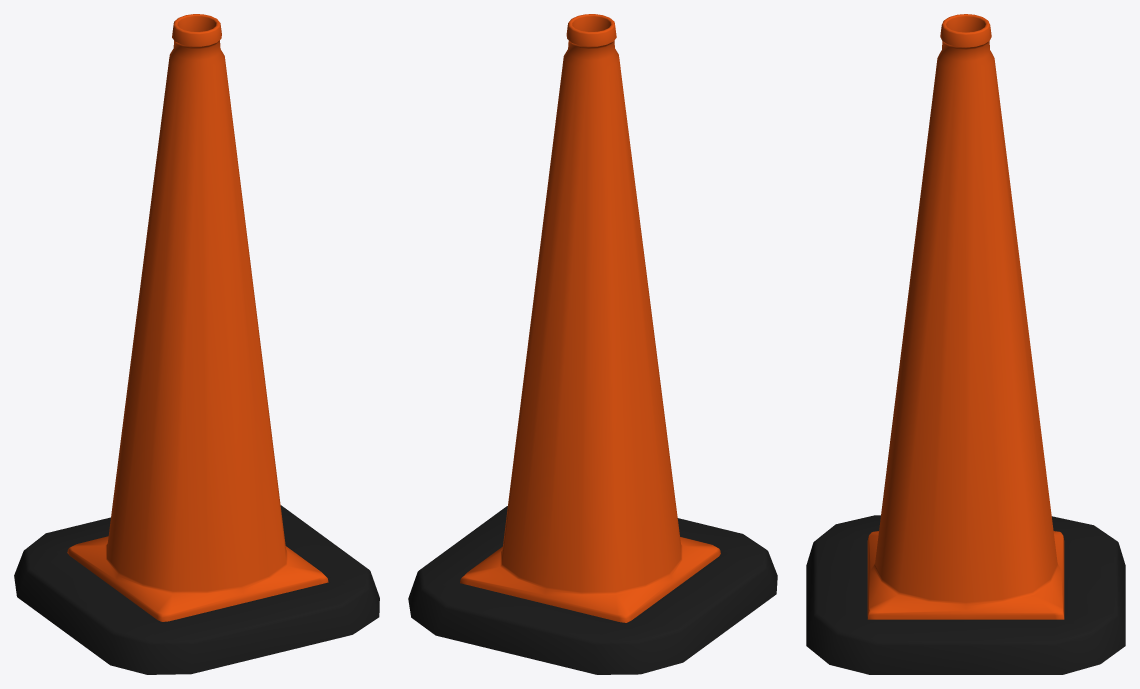
3 renders of one model, left to right at view 1: azimuth 30°, elevation 25°; view 2: azimuth 150°, elevation 25°; view 3: azimuth 270°, elevation 25°, orthographic.
Parts seen in each view (by area): view 1: Cone; view 2: Cone; view 3: Cone.
Boxes of the visible parts, x1=… form: Cone: x1=14, y1=14, x2=379, y2=674; Cone: x1=408, y1=14, x2=777, y2=674; Cone: x1=806, y1=14, x2=1125, y2=674.
Size of the model in its own units: 37 by 74.62 by 37.
